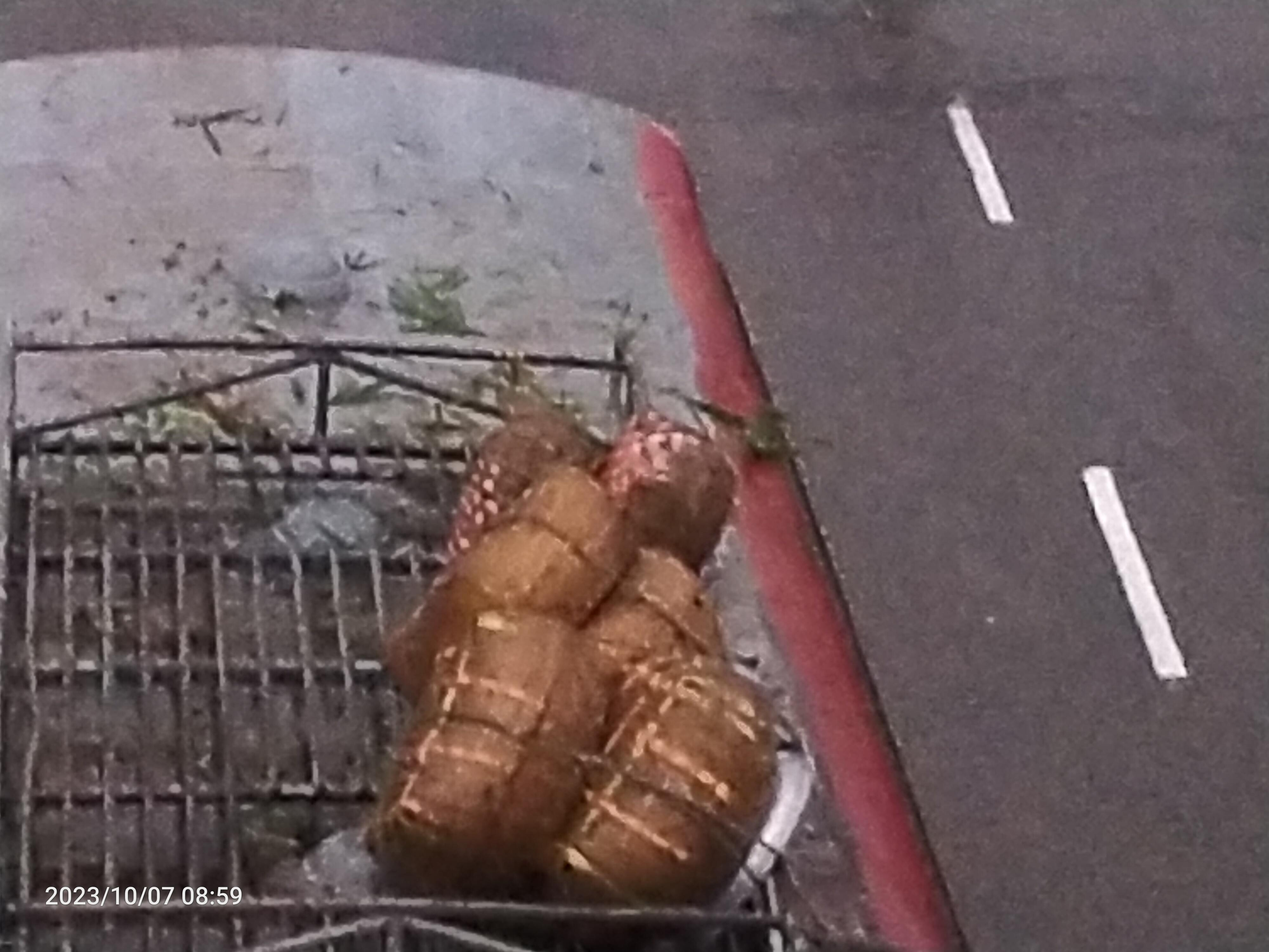Bus: (0, 23, 1097, 952)
